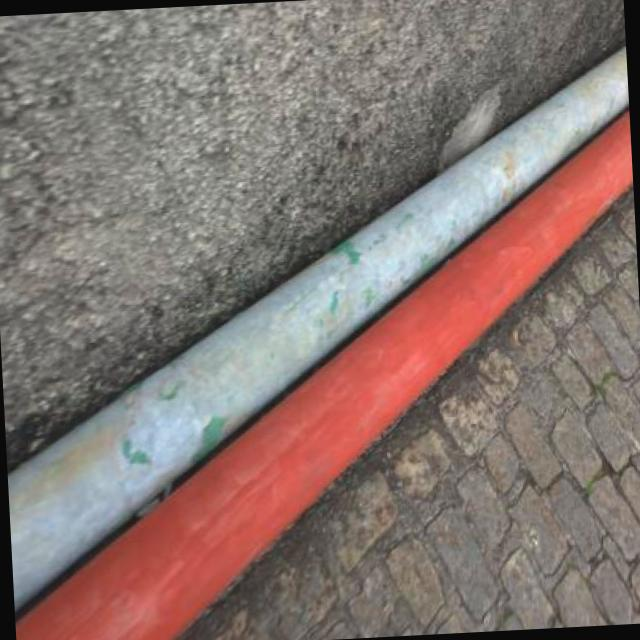gas: (8, 45, 629, 611), (16, 108, 633, 640)
